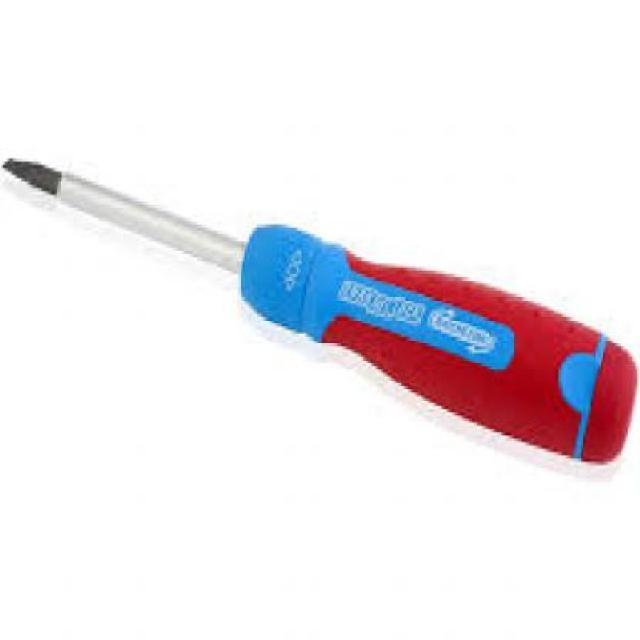screwdriver: (2, 152, 638, 472)
